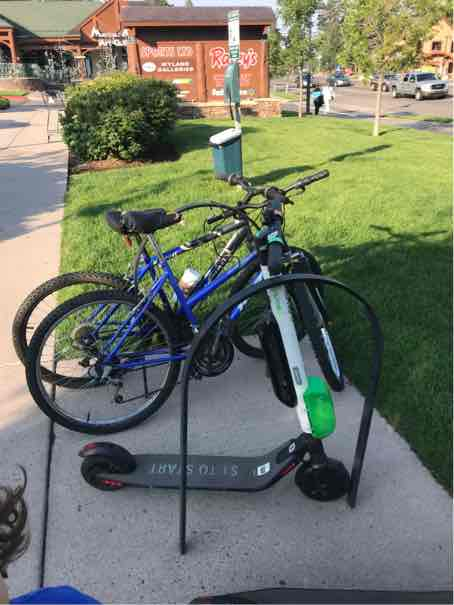scooter: (73, 190, 350, 507)
